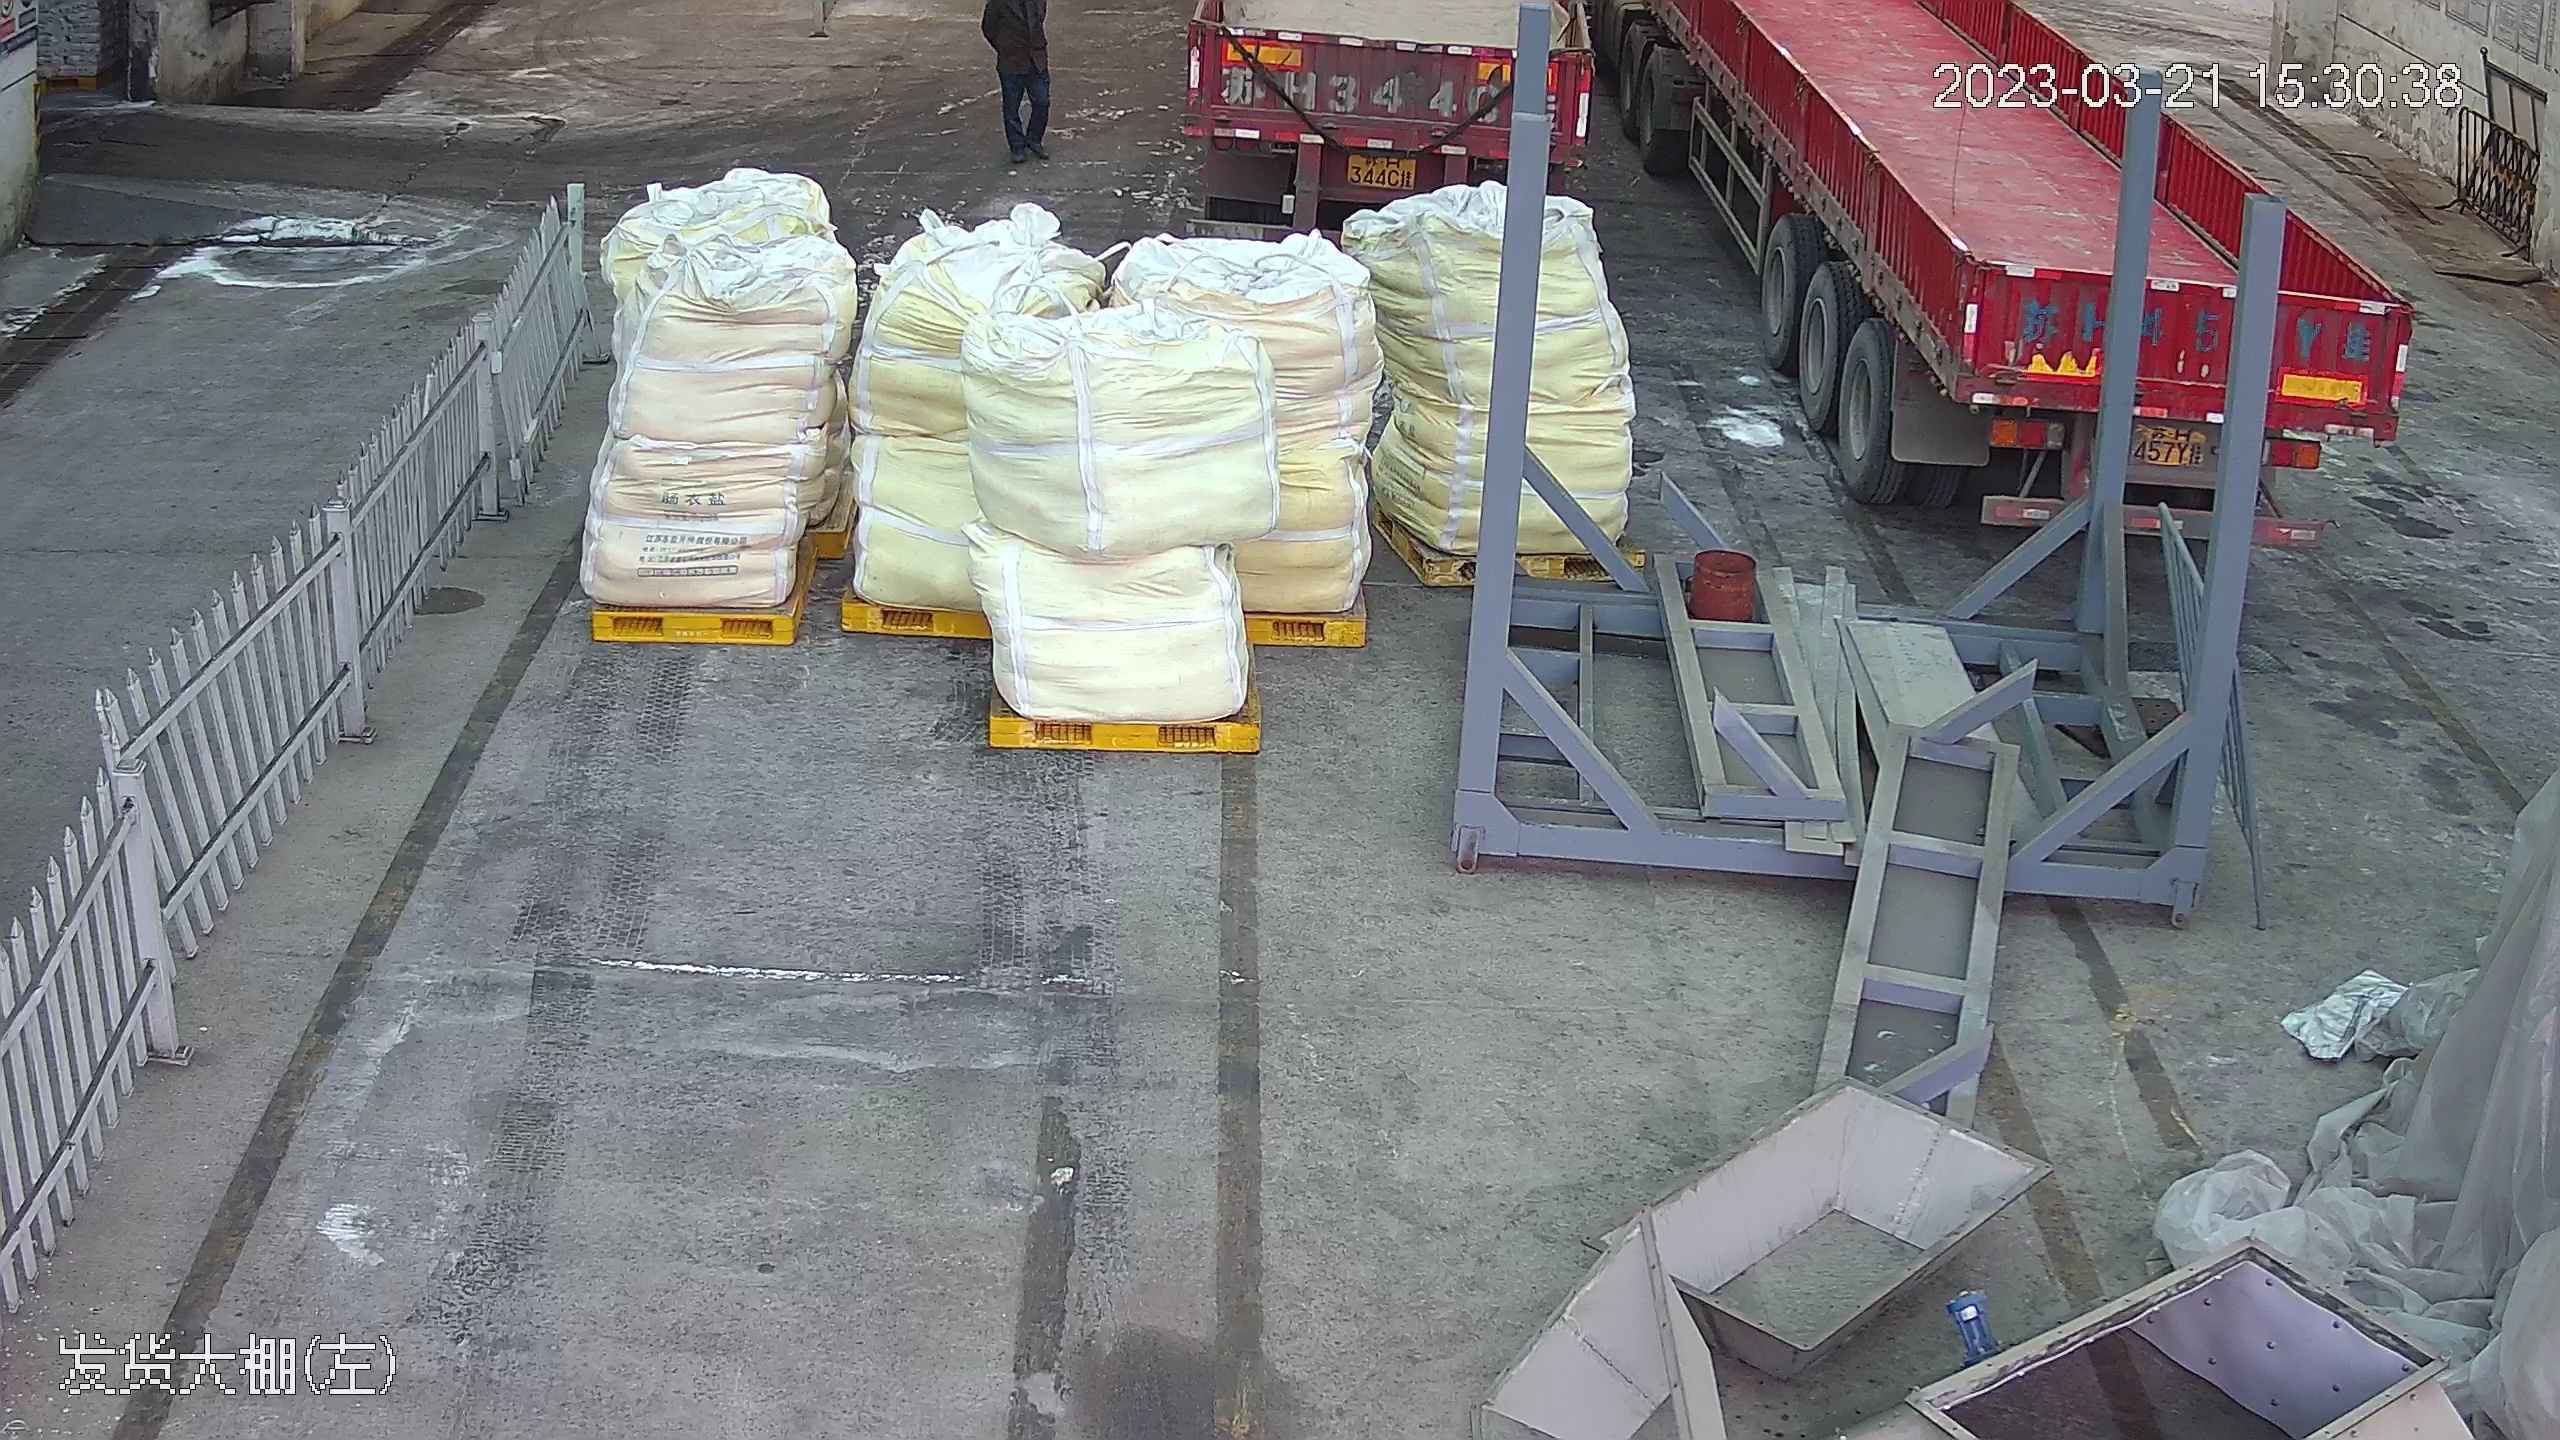people: (978, 3, 1061, 164)
truck: (1599, 0, 2425, 531), (1183, 9, 1558, 209)
